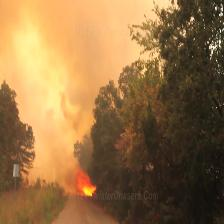fire: (63, 164, 115, 209)
smoke: (1, 2, 151, 155)
